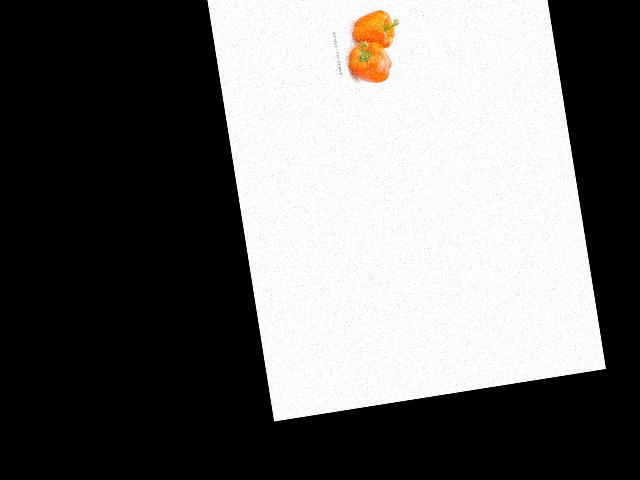bell_pepper: (341, 35, 395, 88)
